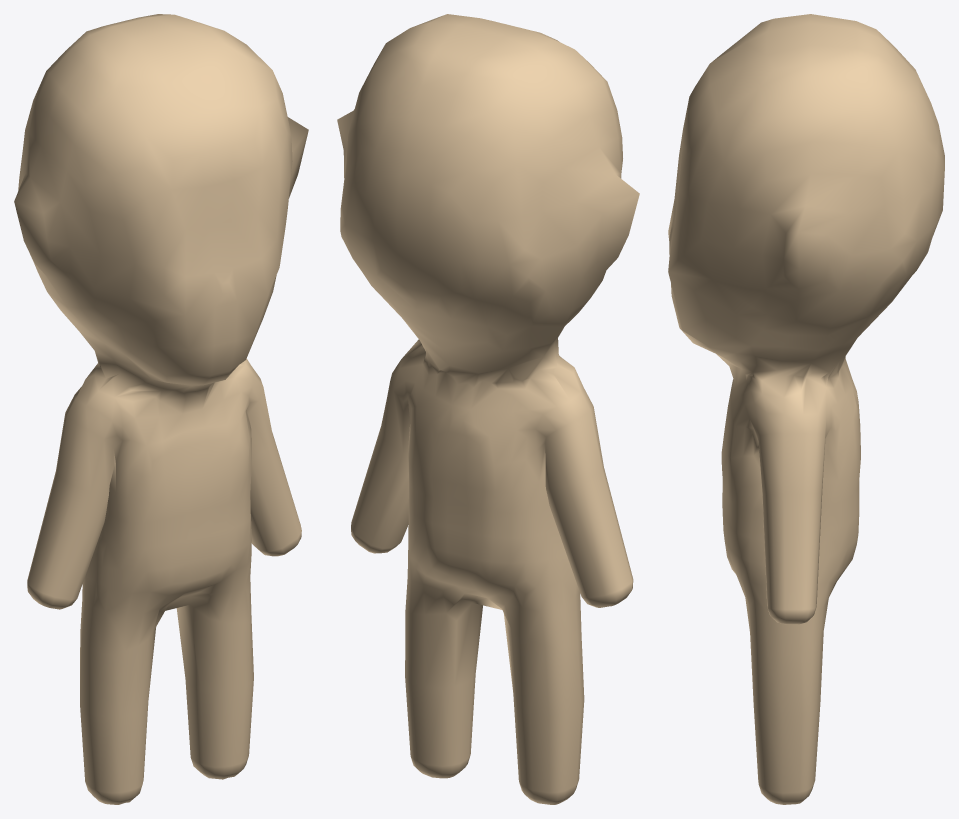
Rendered from Corps d'ewen.fbx.
3 views of the same model, side by side, from view 1: azimuth 30°, elevation 25°; view 2: azimuth 150°, elevation 25°; view 3: azimuth 270°, elevation 25° (orthographic). The views are drawn at different scales.
Visible parts, largest first — view 1: Ewen Corps; view 2: Ewen Corps; view 3: Ewen Corps.
Part boxes in pixels (box(x1,y1,x2,y2)): Ewen Corps: box(14, 14, 308, 804); Ewen Corps: box(337, 14, 639, 804); Ewen Corps: box(668, 14, 944, 804).
Size of the model in its own units: 370 by 894 by 303.
